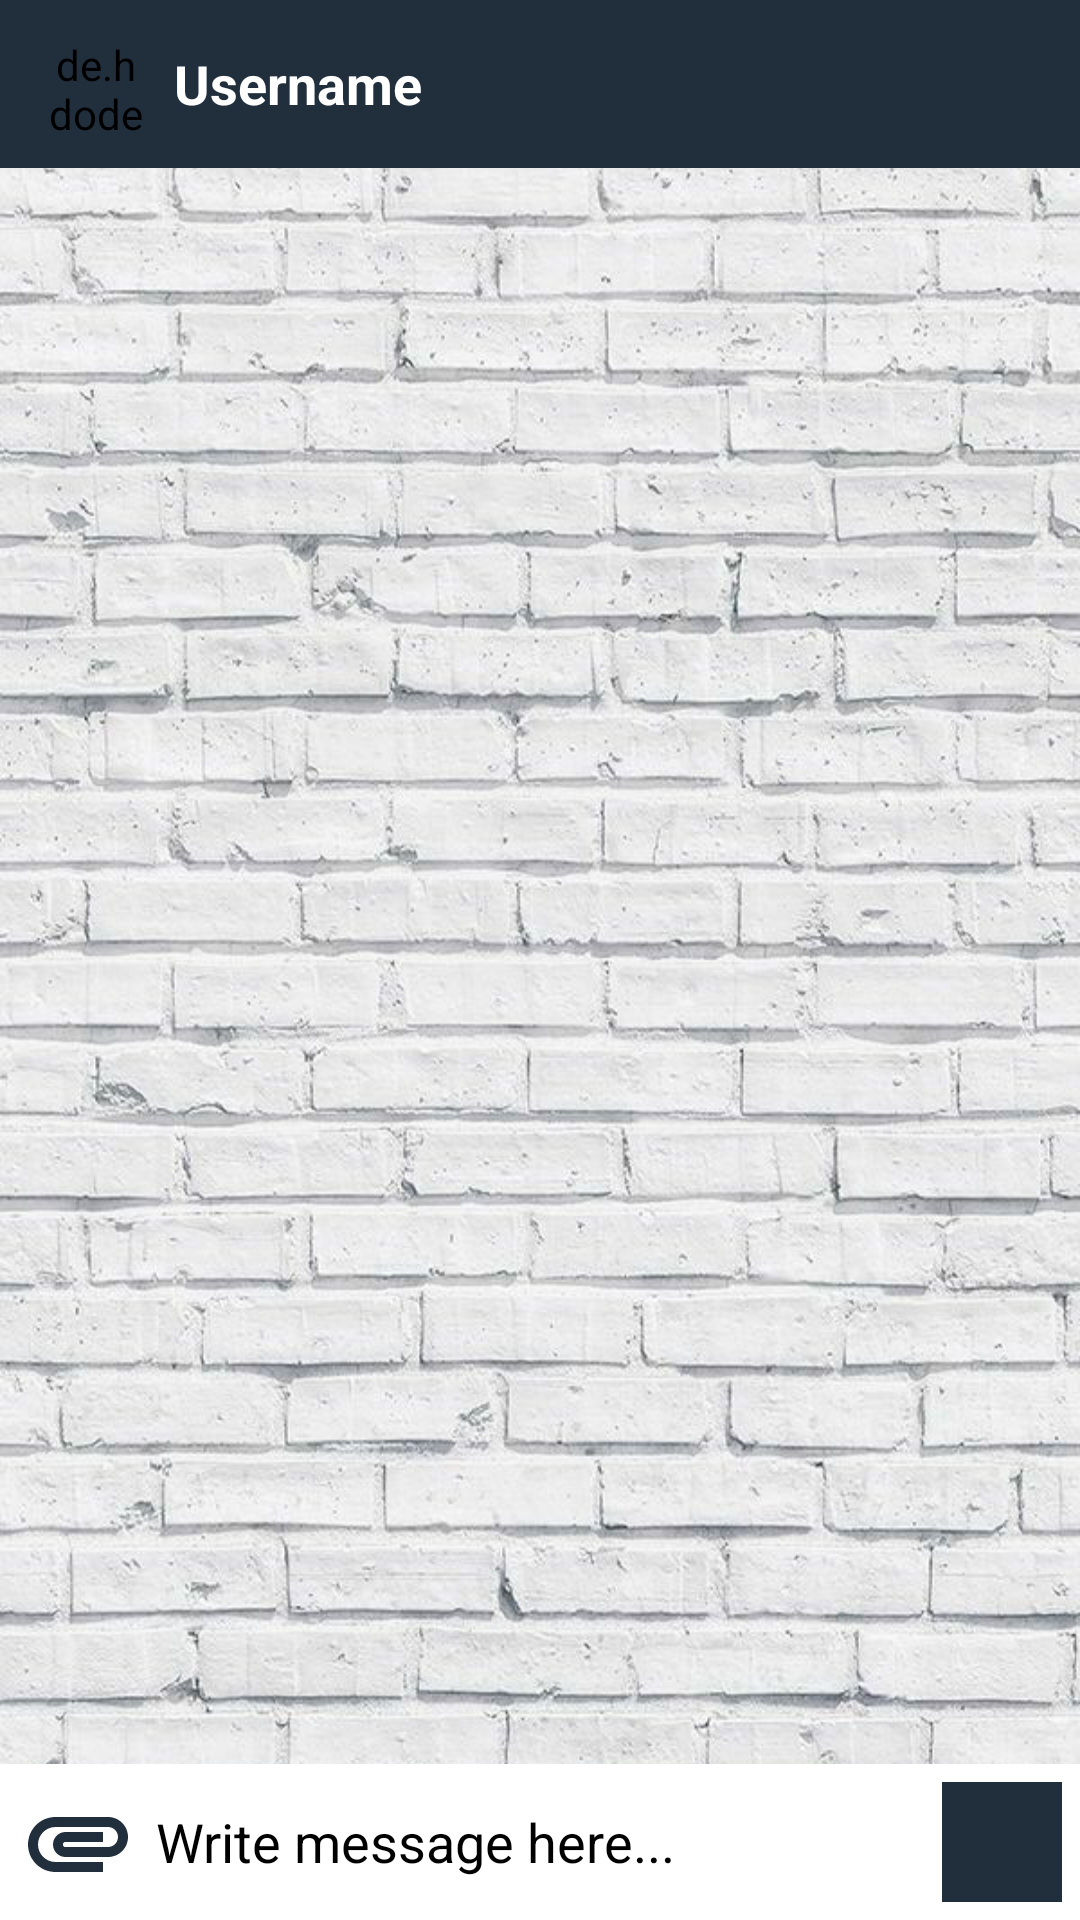

Named icons in this screenshot (1080 × 1920) and their bounding boxes, box=[x1, y1, x2, y2]:
attachment: box=[28, 1817, 128, 1872]
